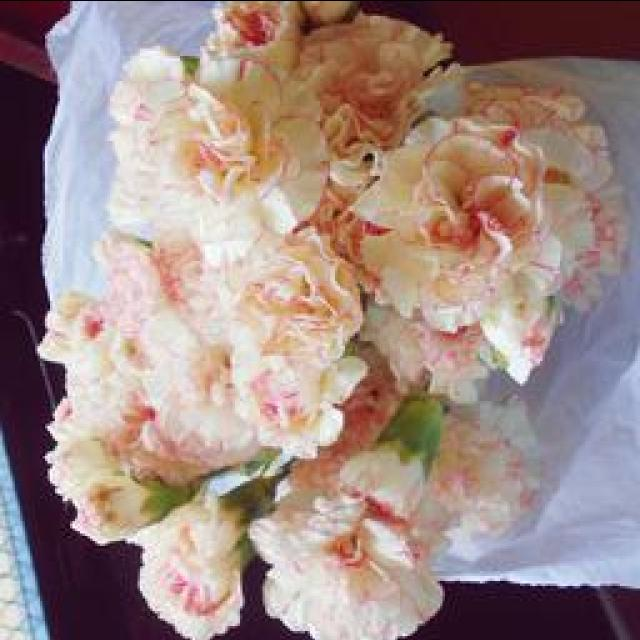carnation: (361, 116, 601, 354)
